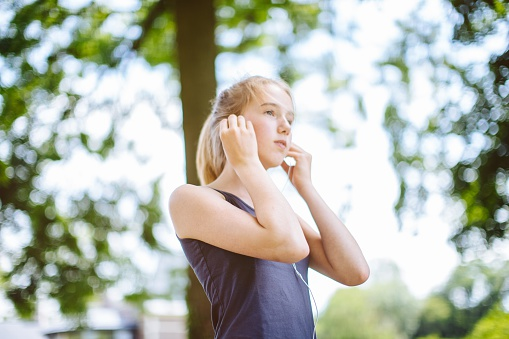em pe: (170, 66, 365, 339)
